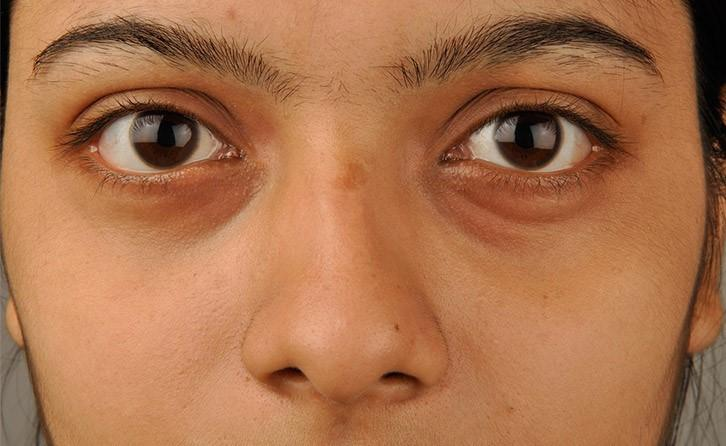Eyebags: (77, 160, 262, 251), (423, 170, 604, 248), (462, 186, 595, 219)
